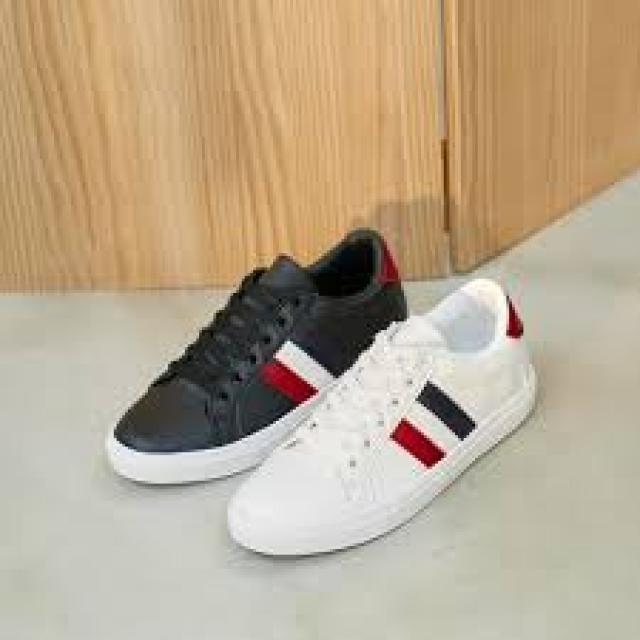shoe: (215, 272, 554, 558), (102, 216, 402, 492)
